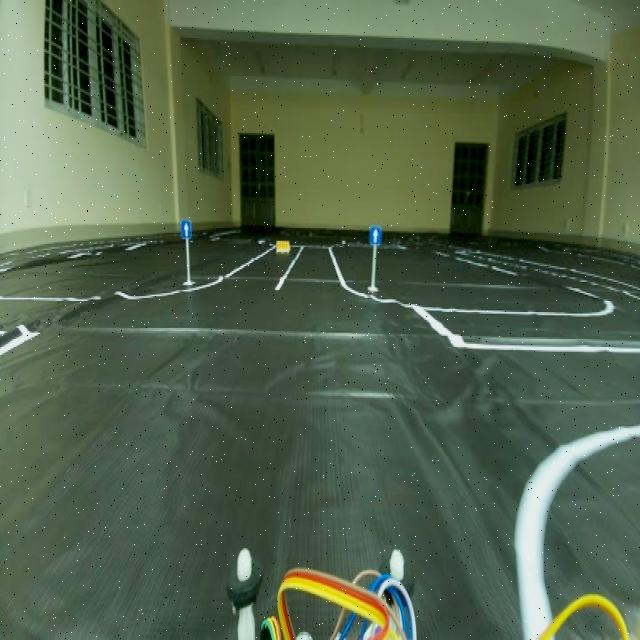onewayroad: (181, 218, 193, 243), (371, 225, 381, 250)
roadblock: (273, 239, 292, 255)
